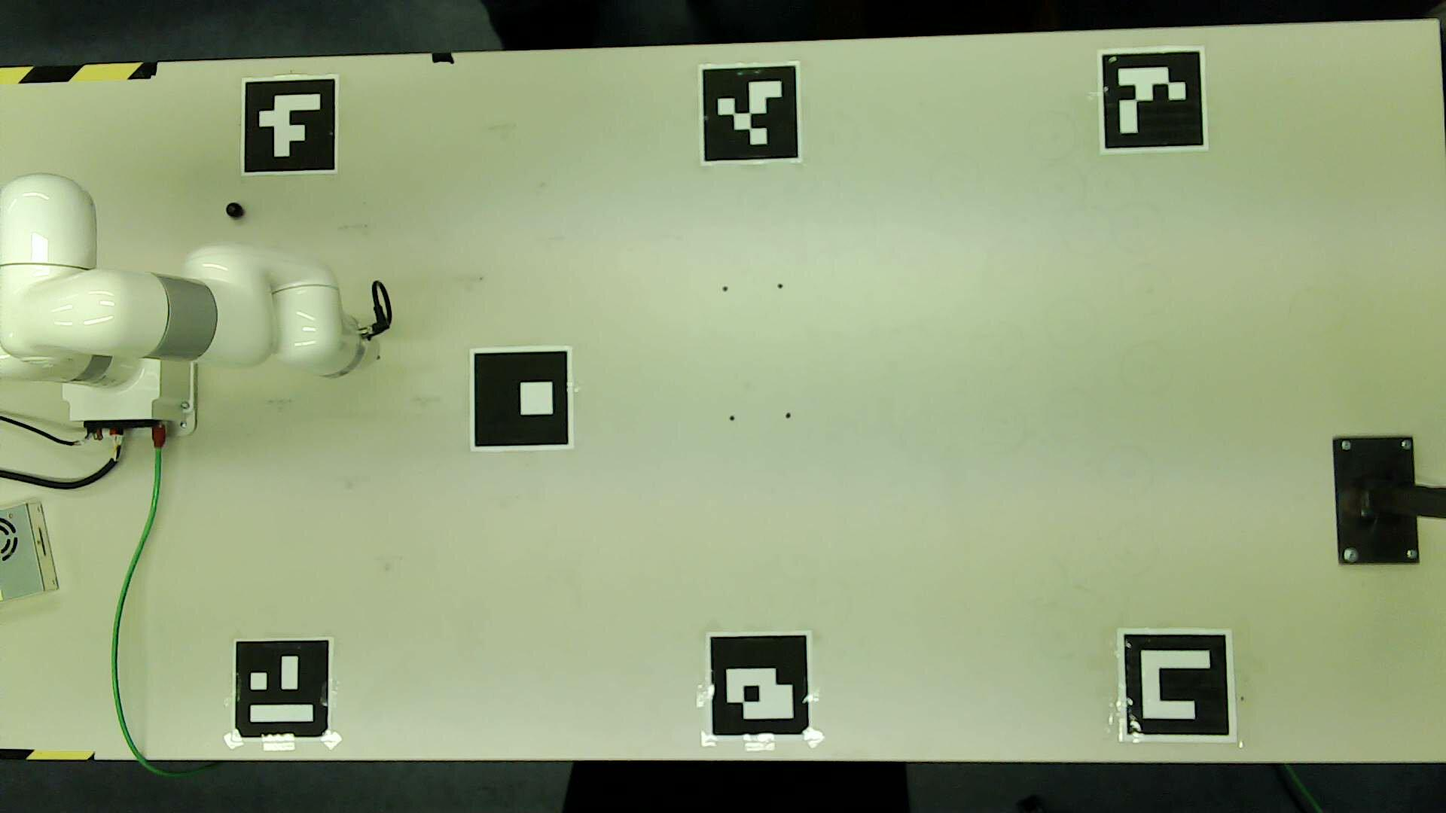ball: (227, 203, 242, 217)
